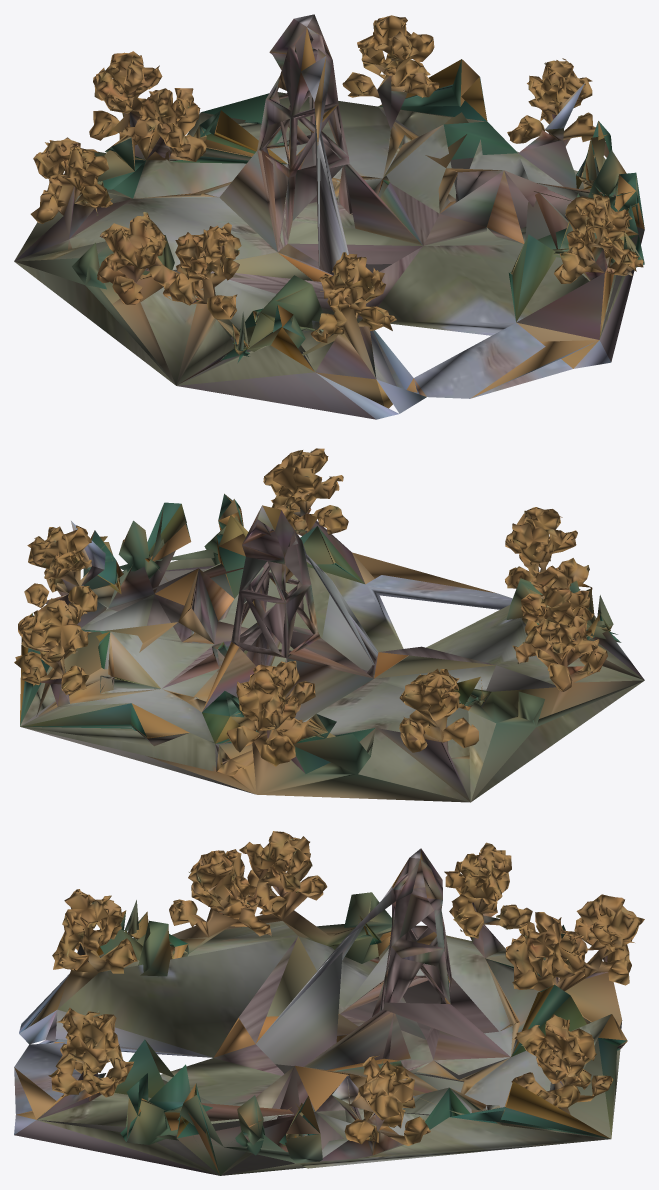
The model's file is m_oak_animated.glb.
The picture shows the model from 3 angles, top to bottom: view 1: azimuth 30°, elevation 25°; view 2: azimuth 150°, elevation 25°; view 3: azimuth 270°, elevation 25°; orthographic projection. The views are drawn at different scales.
Parts seen in each view (by area): view 1: m_oak_Textured_Mine_Landscape, m_oak_Animated_Autumn_Crowns; view 2: m_oak_Textured_Mine_Landscape, m_oak_Animated_Autumn_Crowns; view 3: m_oak_Textured_Mine_Landscape, m_oak_Animated_Autumn_Crowns.
Boxes of the visible parts, <box> form: m_oak_Textured_Mine_Landscape: <box>14,14,644,419</box>; m_oak_Animated_Autumn_Crowns: <box>15,15,643,385</box>; m_oak_Textured_Mine_Landscape: <box>20,451,644,802</box>; m_oak_Animated_Autumn_Crowns: <box>14,448,644,802</box>; m_oak_Textured_Mine_Landscape: <box>14,839,627,1175</box>; m_oak_Animated_Autumn_Crowns: <box>48,831,644,1166</box>.
Size of the model in its own units: 0.9295 by 0.4777 by 0.9259.
Materials: 2 (1 with a texture image).
